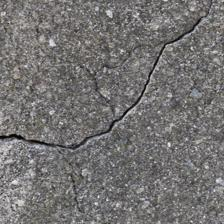Crack: (2, 10, 203, 143)
